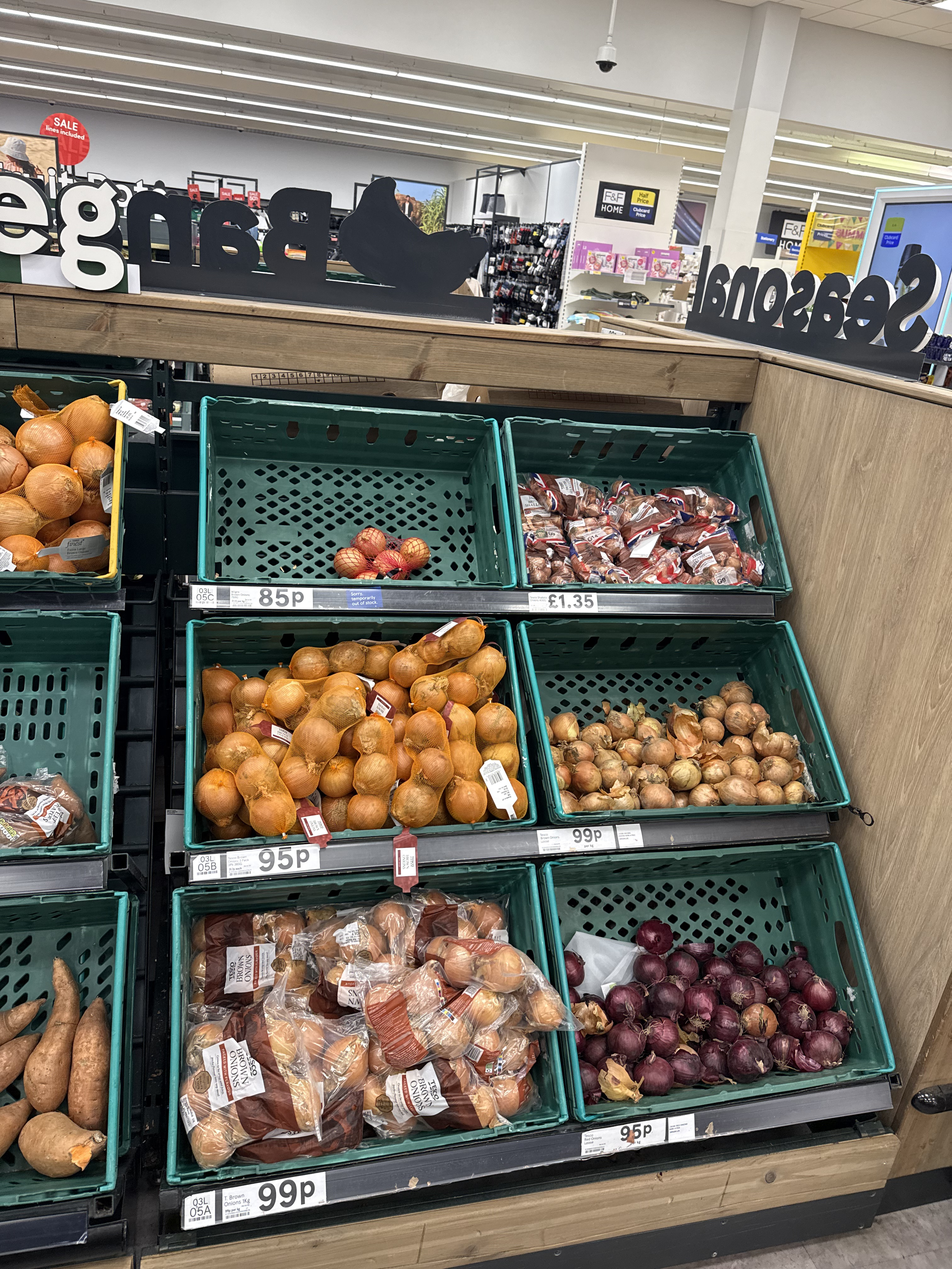large: (222, 1172, 326, 1222), (227, 844, 320, 879), (230, 586, 313, 609)
medium: (581, 1117, 666, 1156), (537, 826, 616, 854), (528, 592, 598, 613)
